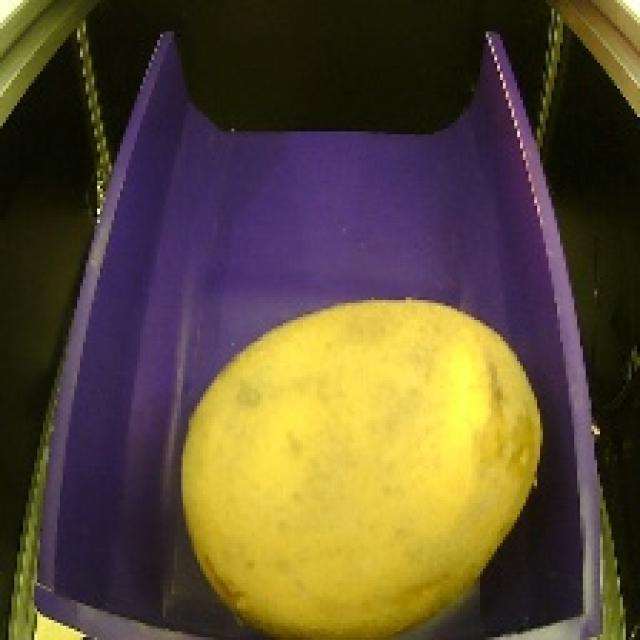full_potato: (160, 284, 551, 640)
